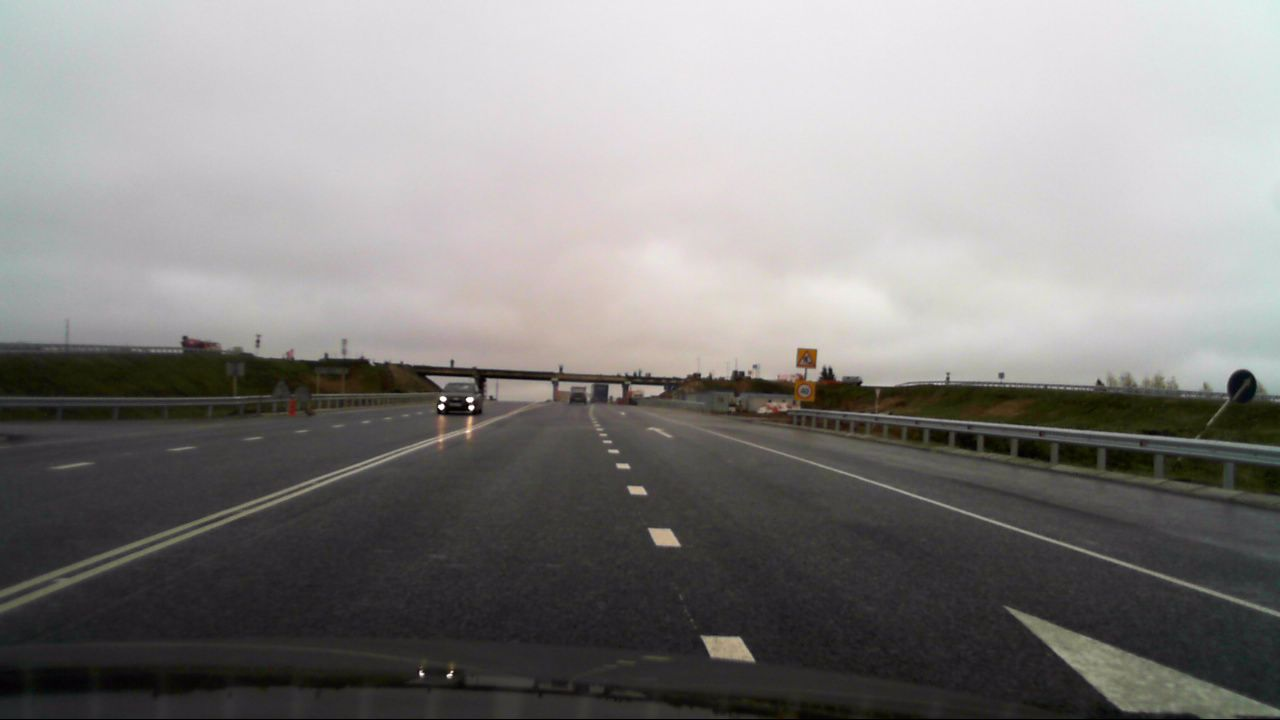speed_warning_40: (794, 380, 815, 401)
